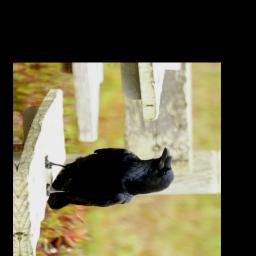Crow: (43, 145, 176, 210)
